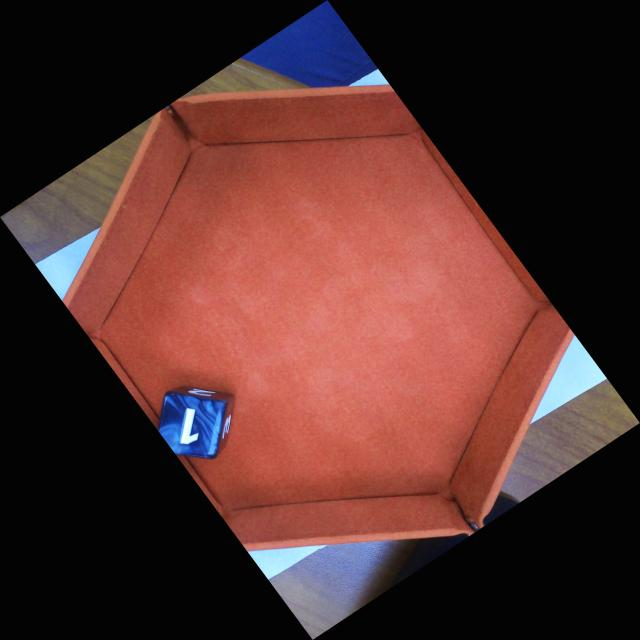dice: (158, 390, 232, 453)
